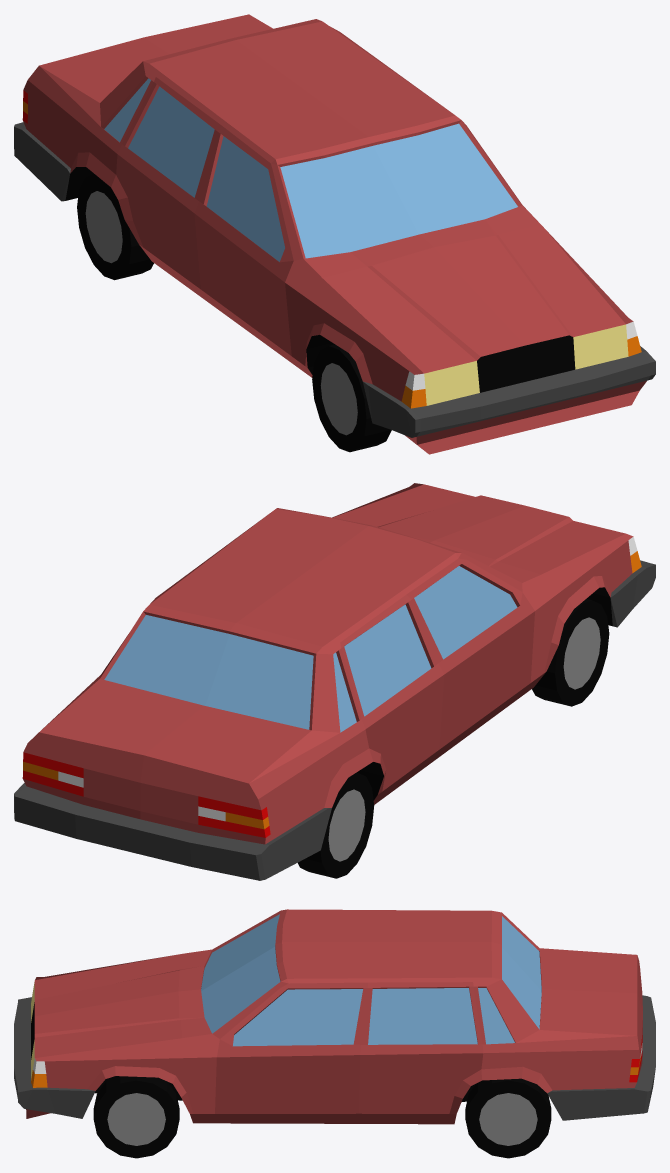
3 renders of one model, top to bottom at view 1: azimuth 30°, elevation 25°; view 2: azimuth 150°, elevation 25°; view 3: azimuth 270°, elevation 25°, orthographic. The views are drawn at different scales.
Visible parts, largest first — view 1: Vert.001; view 2: Vert.001; view 3: Vert.001.
Boxes of the visible parts, x1,y1,x2,y2 form: Vert.001: [14, 14, 655, 454]; Vert.001: [14, 483, 655, 880]; Vert.001: [14, 909, 655, 1158].
Bounding box in the file's own units: 1.78 × 1.39 × 4.78.
Materials: 1 (1 with a texture image).
